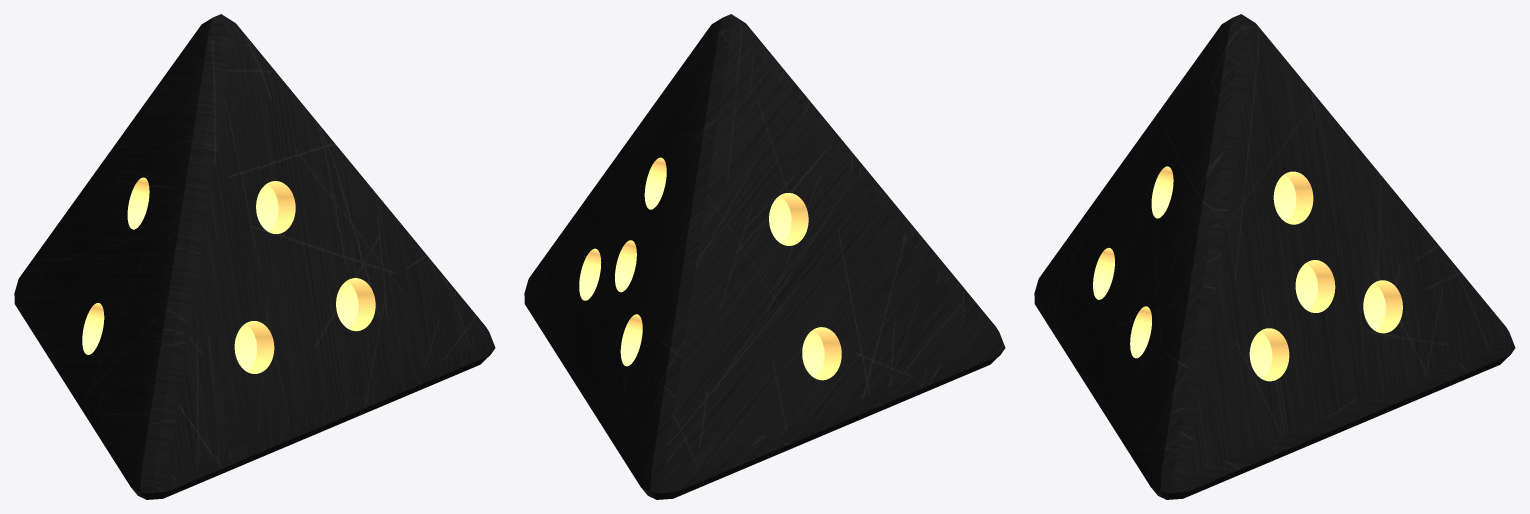
File: MP_D4_BlackGold.glb
3 views of the same model, side by side, from view 1: azimuth 30°, elevation 25°; view 2: azimuth 150°, elevation 25°; view 3: azimuth 270°, elevation 25° (orthographic).
Visible parts, largest first — view 1: D4_BlackGold; view 2: D4_BlackGold; view 3: D4_BlackGold.
Part boxes in pixels (left/top/right/bottom): D4_BlackGold: left=14, top=14, right=495, bottom=499; D4_BlackGold: left=524, top=14, right=1005, bottom=499; D4_BlackGold: left=1034, top=14, right=1515, bottom=499.
Bounding box in the file's own units: 1 × 0.8606 × 1.
Materials: 2 (1 with a texture image).
